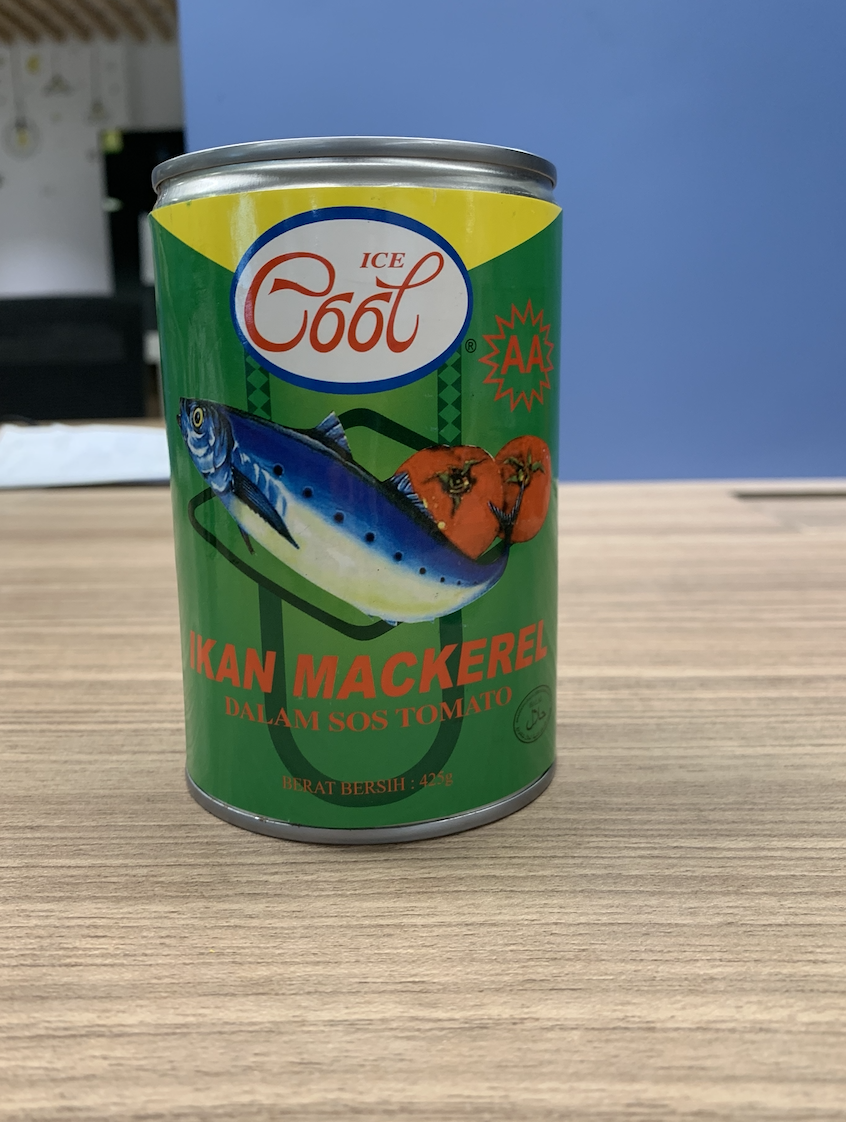sardines_400g-499g: (177, 199, 562, 804)
